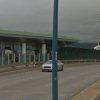Car: (39, 55, 68, 74)
